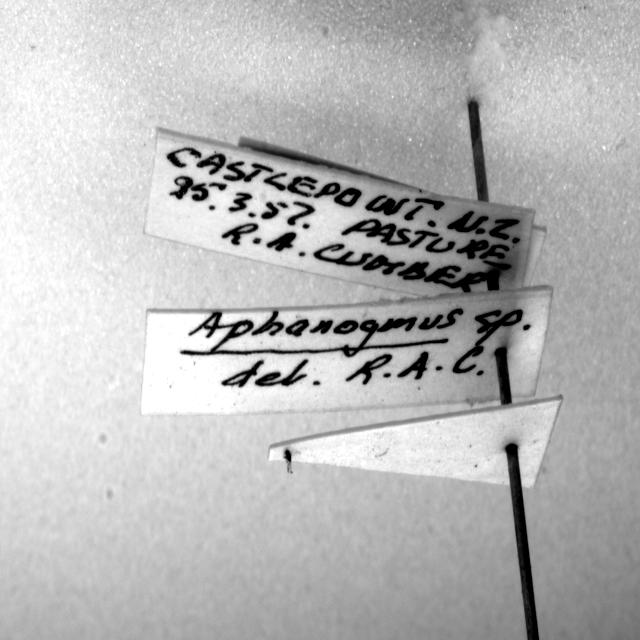hand_label: (144, 129, 536, 296), (141, 287, 552, 414)
